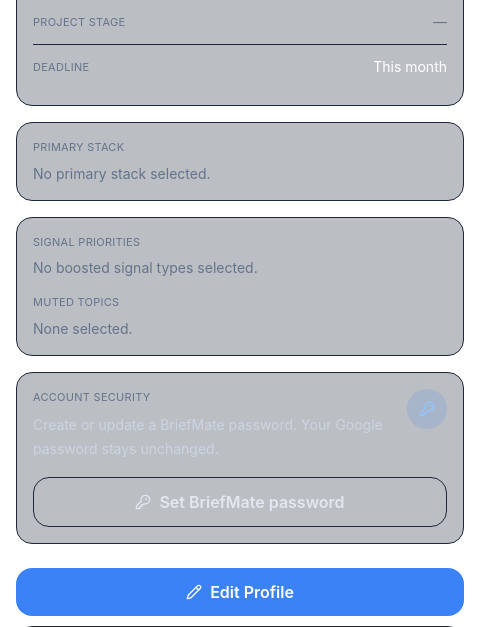
Test: ProfileScreen › lets the user set a BriefMate password without changing Google password
(page scrolled)
Click the button "Set BriefMate password" at (240, 502), box [33,477,447,527]
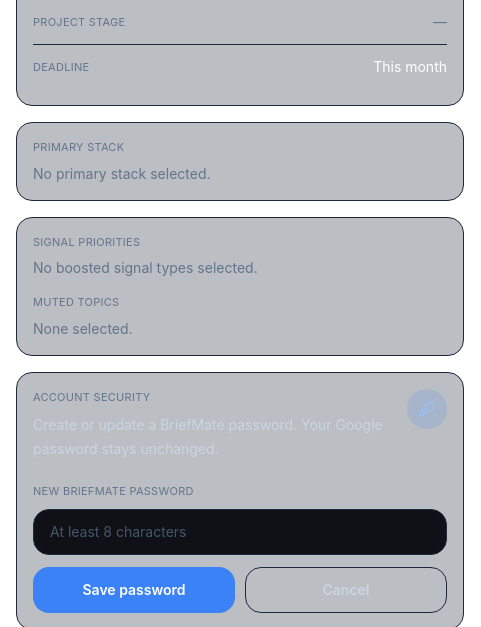
Type "new-secure-password" into the password field labelled "New BriefMate password" at (240, 532), box [33,509,447,555]
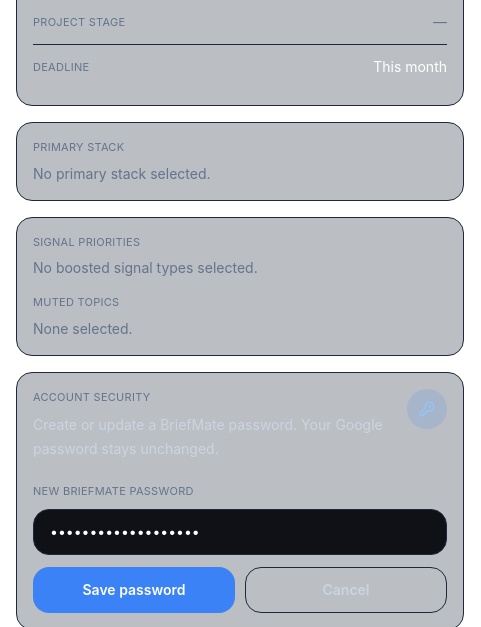
Click the button "Save password" at (134, 590), box [33,567,235,613]
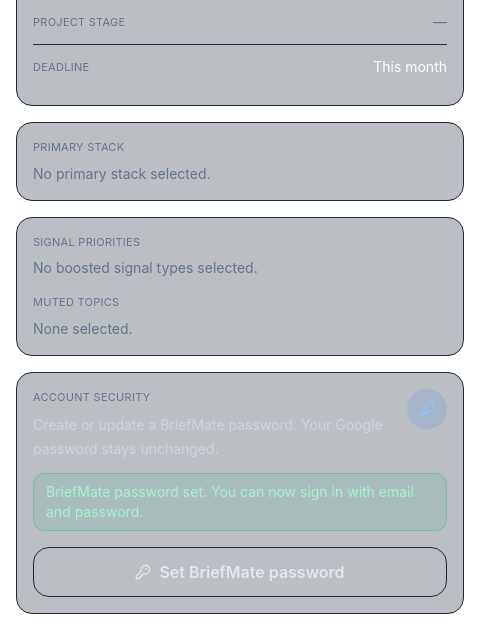
Expected: the text "Your Google password stays unchanged" is shown, [33,416,383,457]
Result: the text "BriefMate password set" is shown at [46,483,414,520]
